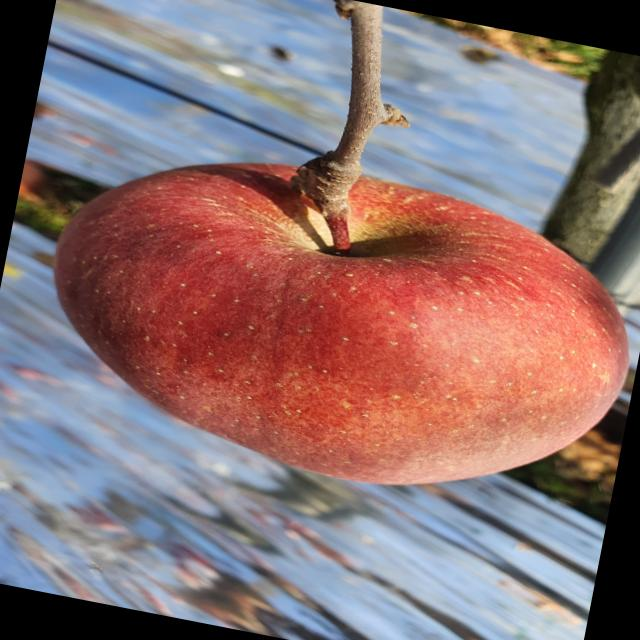fresh: (9, 108, 640, 535)
